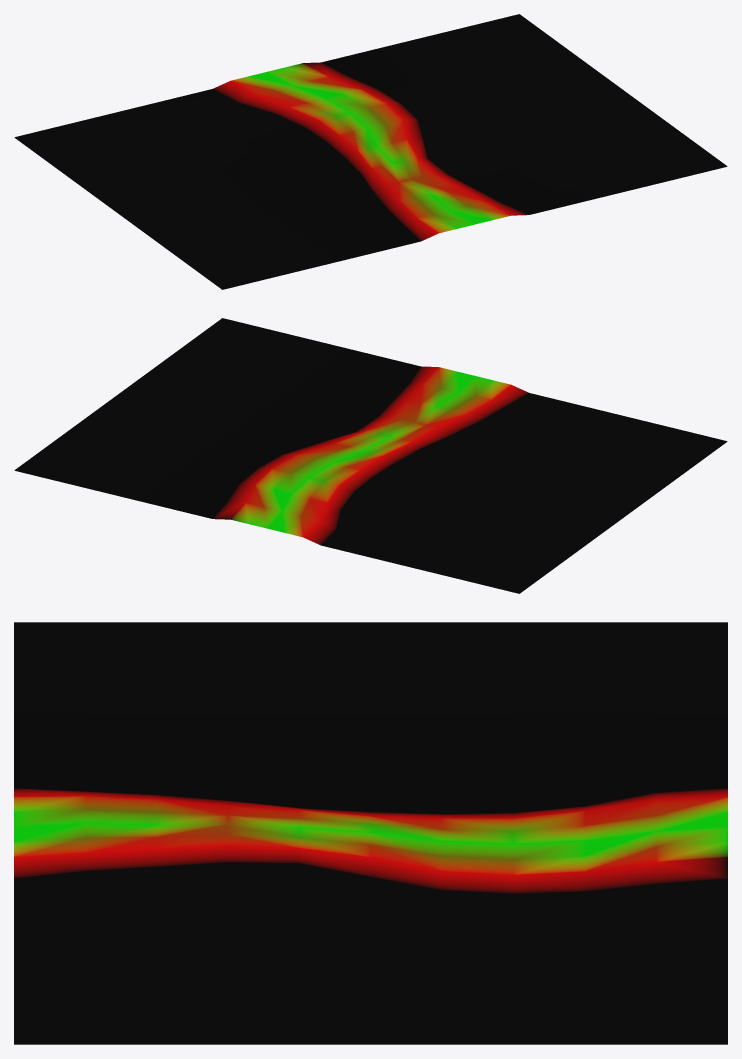
The model's file is Section_WayLine01_Steppe_Terrain.fbx.
3 renders of one model, top to bottom at view 1: azimuth 30°, elevation 25°; view 2: azimuth 150°, elevation 25°; view 3: azimuth 270°, elevation 25°, orthographic. The views are drawn at different scales.
Visible parts, largest first — view 1: Section_WayLine01_Steppe_Terrain; view 2: Section_WayLine01_Steppe_Terrain; view 3: Section_WayLine01_Steppe_Terrain.
Boxes of the visible parts, x1,y1,x2,y2 form: Section_WayLine01_Steppe_Terrain: (14,14,727,289); Section_WayLine01_Steppe_Terrain: (14,318,727,593); Section_WayLine01_Steppe_Terrain: (14,622,727,1044).
Size of the model in its own units: 7000 by 50 by 5000.
